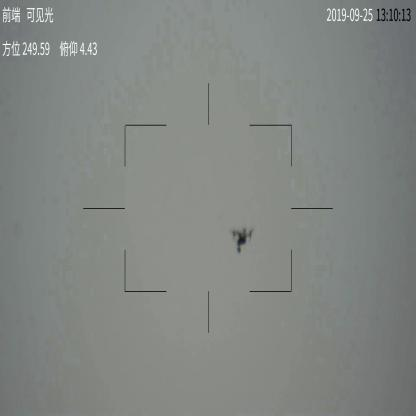uav: (230, 228, 252, 256)
